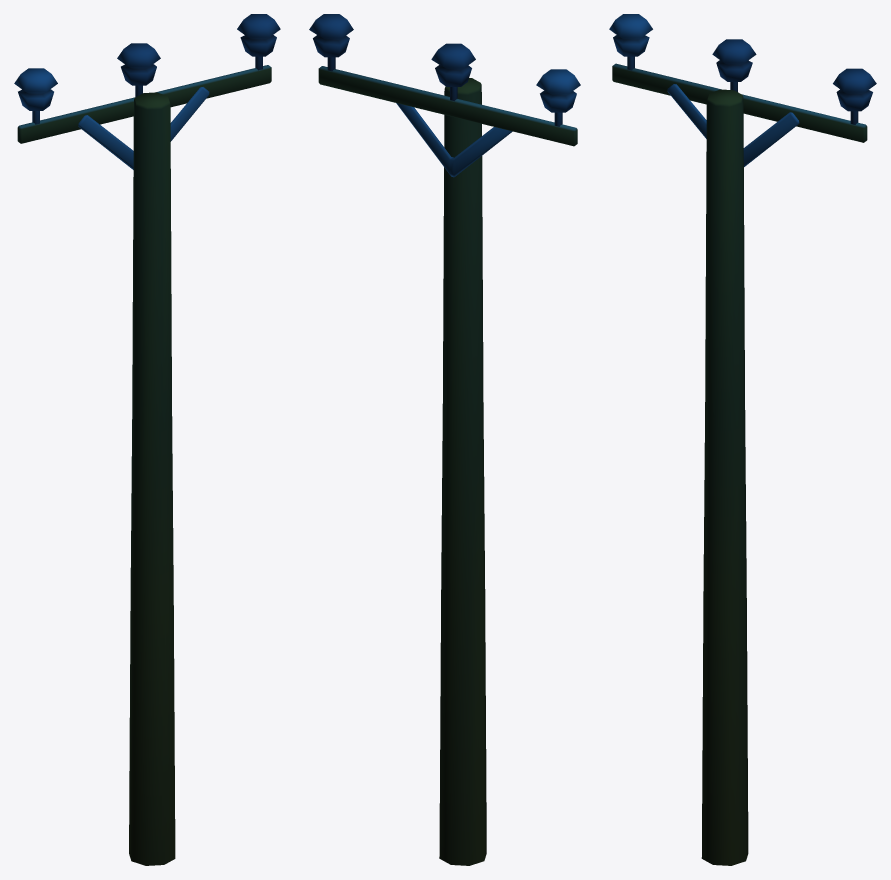
File: TelegraphPole02Night.fbx
The picture shows the model from 3 angles, left to right: view 1: azimuth 30°, elevation 25°; view 2: azimuth 150°, elevation 25°; view 3: azimuth 330°, elevation 25°; orthographic projection.
Parts seen in each view (by area): view 1: TelegraphPole02Night; view 2: TelegraphPole02Night; view 3: TelegraphPole02Night.
Part boxes in pixels (x1,y1,x2,y2): TelegraphPole02Night: [14, 14, 280, 865]; TelegraphPole02Night: [309, 14, 580, 865]; TelegraphPole02Night: [609, 14, 876, 865].
Size of the model in its own units: 229 by 680 by 51.17.
